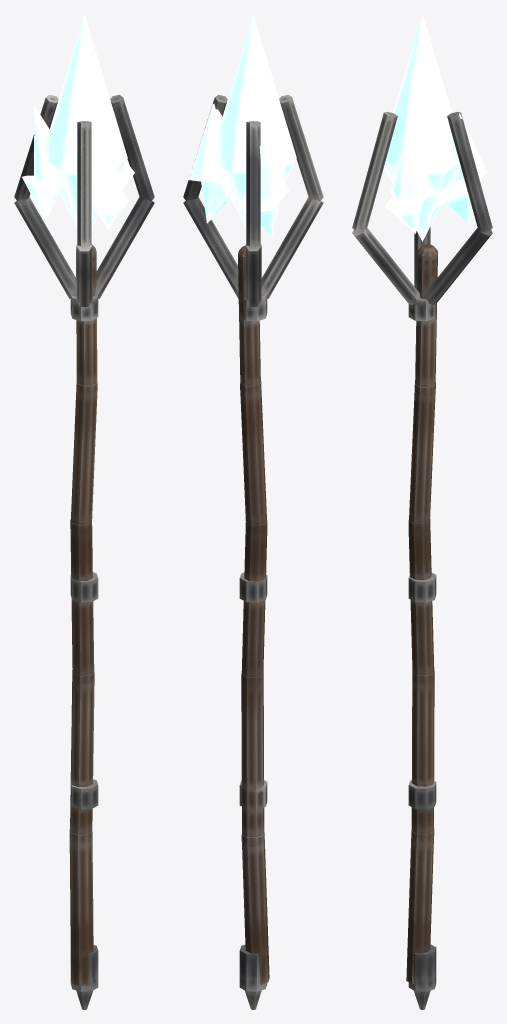
The model's file is weapon_frost_staff.glb.
The picture shows the model from 3 angles, left to right: view 1: azimuth 30°, elevation 25°; view 2: azimuth 150°, elevation 25°; view 3: azimuth 330°, elevation 25°; orthographic projection.
Visible parts, largest first — view 1: weapon_frost_staff; view 2: weapon_frost_staff; view 3: weapon_frost_staff.
Part boxes in pixels (x1=…): weapon_frost_staff: x1=14, y1=14, x2=154, y2=1009; weapon_frost_staff: x1=183, y1=14, x2=323, y2=1009; weapon_frost_staff: x1=352, y1=14, x2=492, y2=1009.
Size of the model in its own units: 0.2749 by 2.4 by 0.3082.
Materials: 1 (1 with a texture image).
